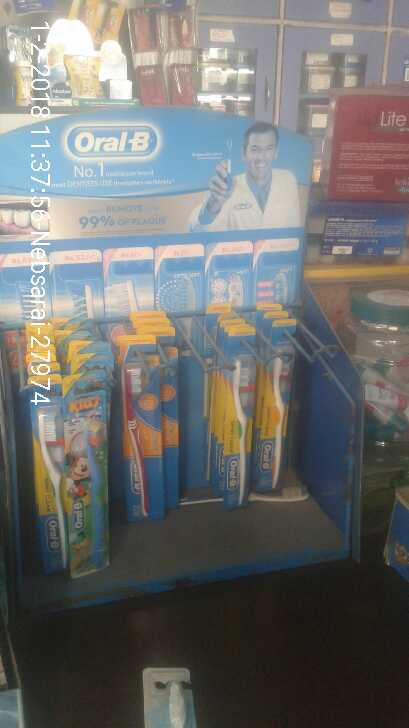oralb: (120, 336, 167, 520), (260, 316, 292, 493), (224, 327, 255, 506)
